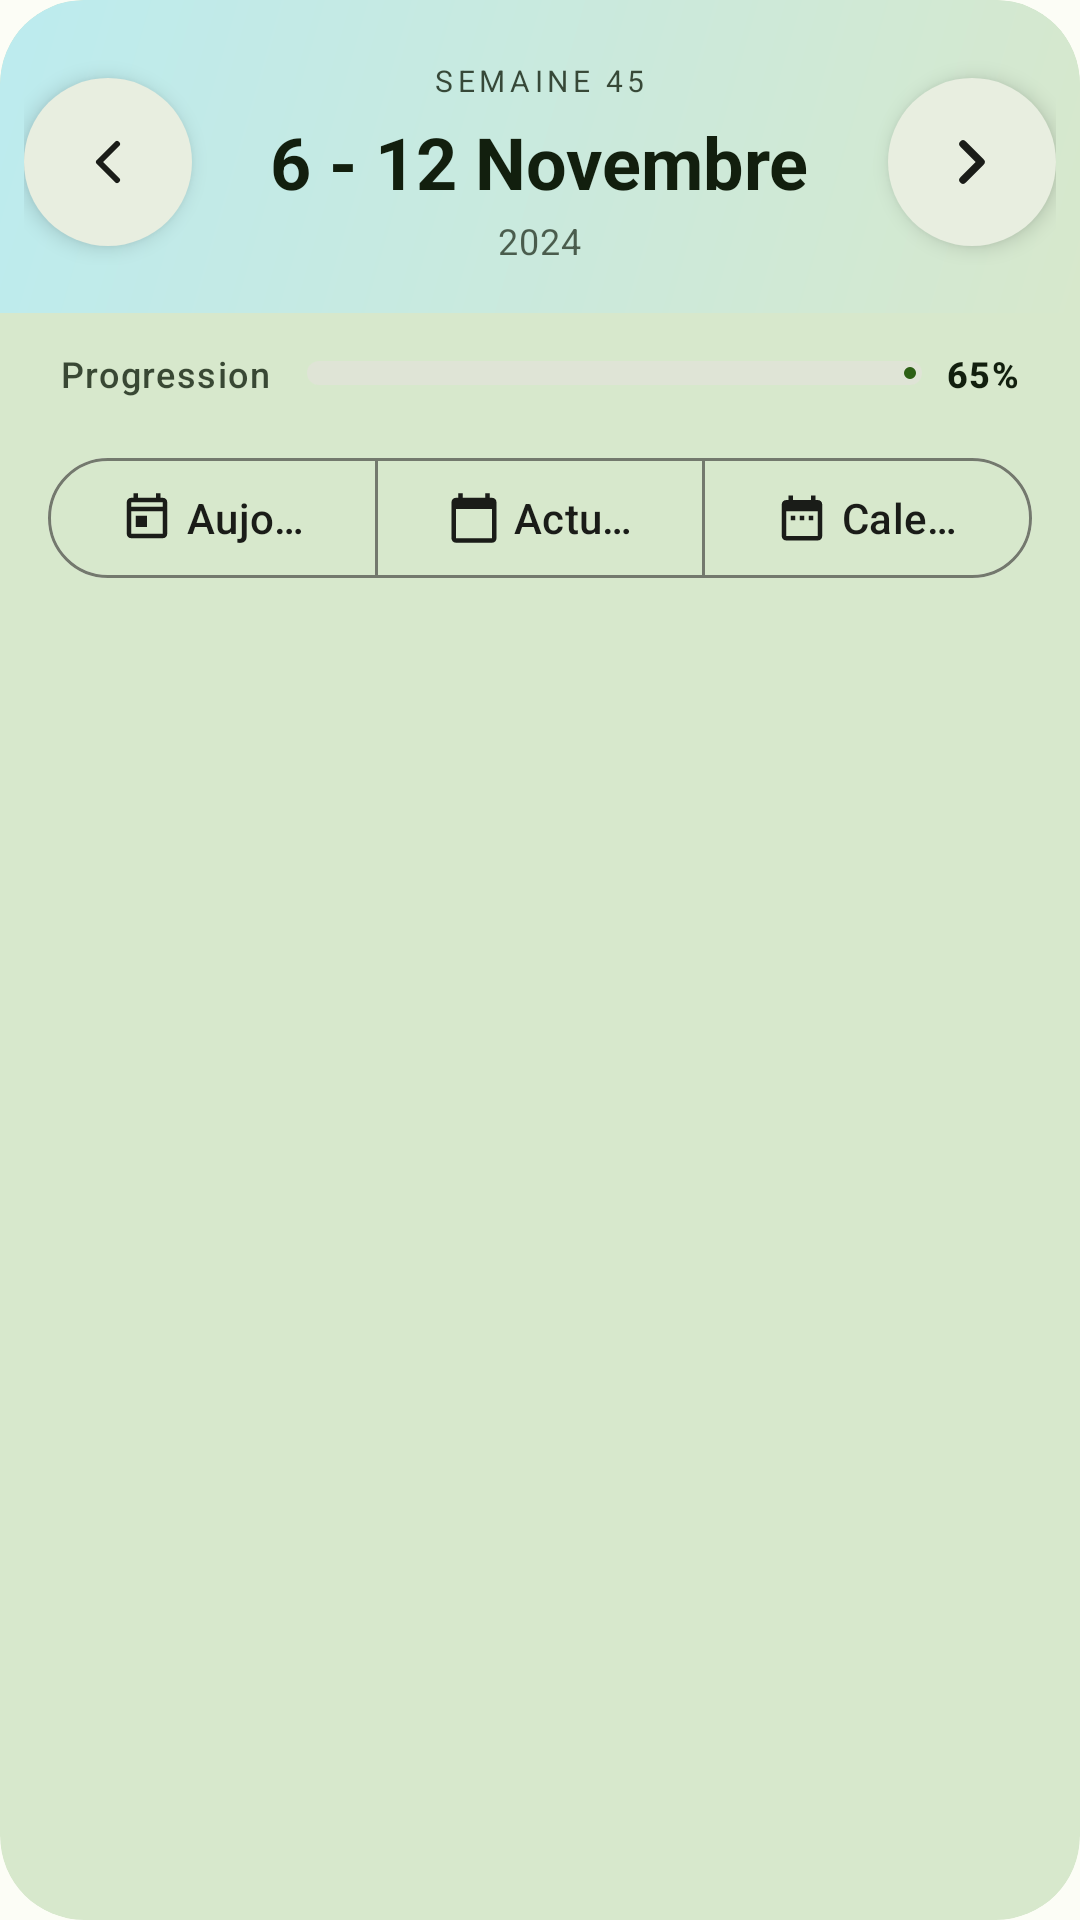

Where to tap for icons on this 1080 × 1920 app screen, as (x,y):
arrow left: (108,162)
arrow right: (972,162)
